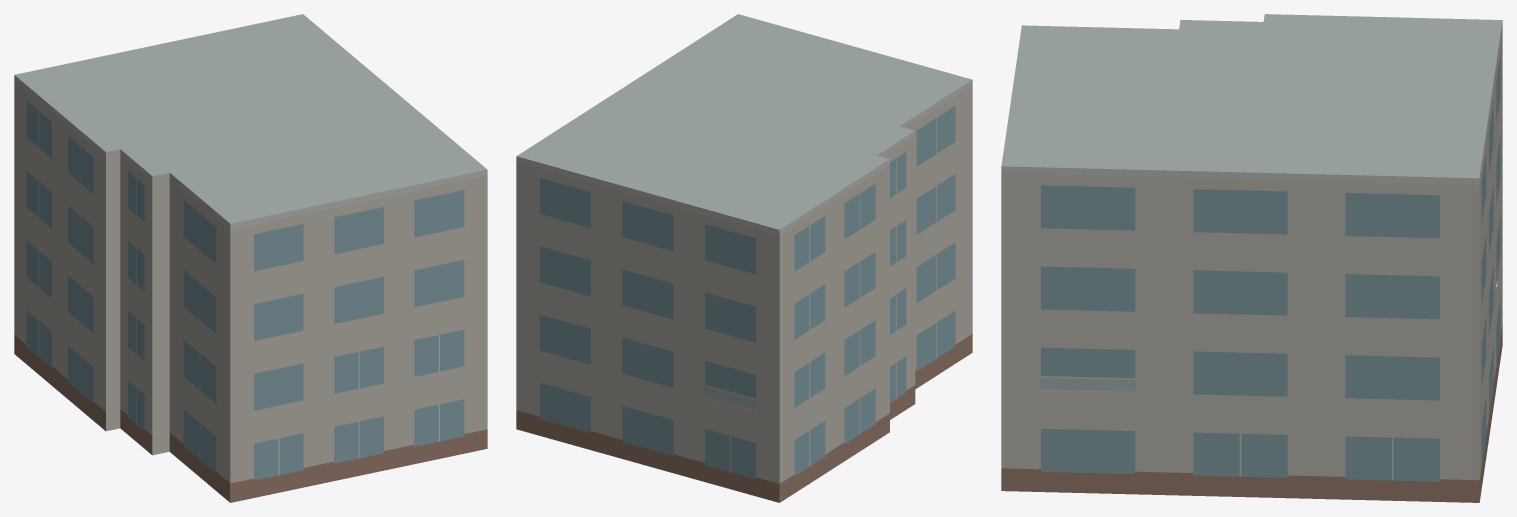
File: survey-upis-32462607.glb
The picture shows the model from 3 angles, left to right: view 1: azimuth 30°, elevation 25°; view 2: azimuth 150°, elevation 25°; view 3: azimuth 270°, elevation 25°; orthographic projection. The views are drawn at different scales.
Parts seen in each view (by area): view 1: survey-upis-32462607.tmp; view 2: survey-upis-32462607.tmp; view 3: survey-upis-32462607.tmp.
Part boxes in pixels (box(x1,y1,x2,y2)): survey-upis-32462607.tmp: box(14, 14, 487, 502); survey-upis-32462607.tmp: box(516, 14, 972, 502); survey-upis-32462607.tmp: box(1001, 14, 1502, 502).
Bounding box in the file's own units: 12.71 × 11.7 × 16.38.
